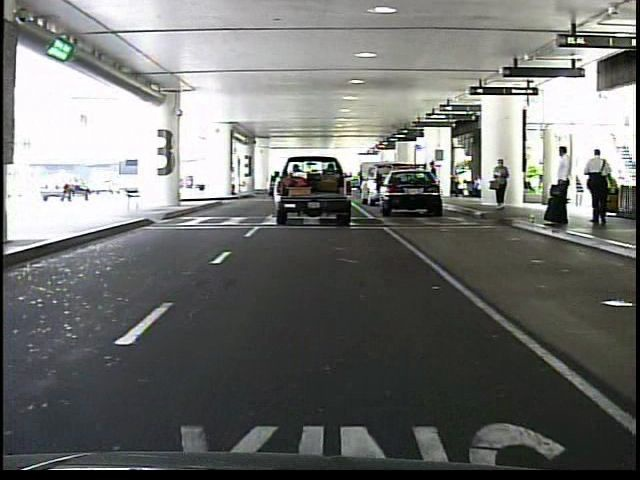person: (583, 145, 617, 229), (543, 142, 575, 229), (491, 153, 516, 215), (429, 159, 443, 202)
